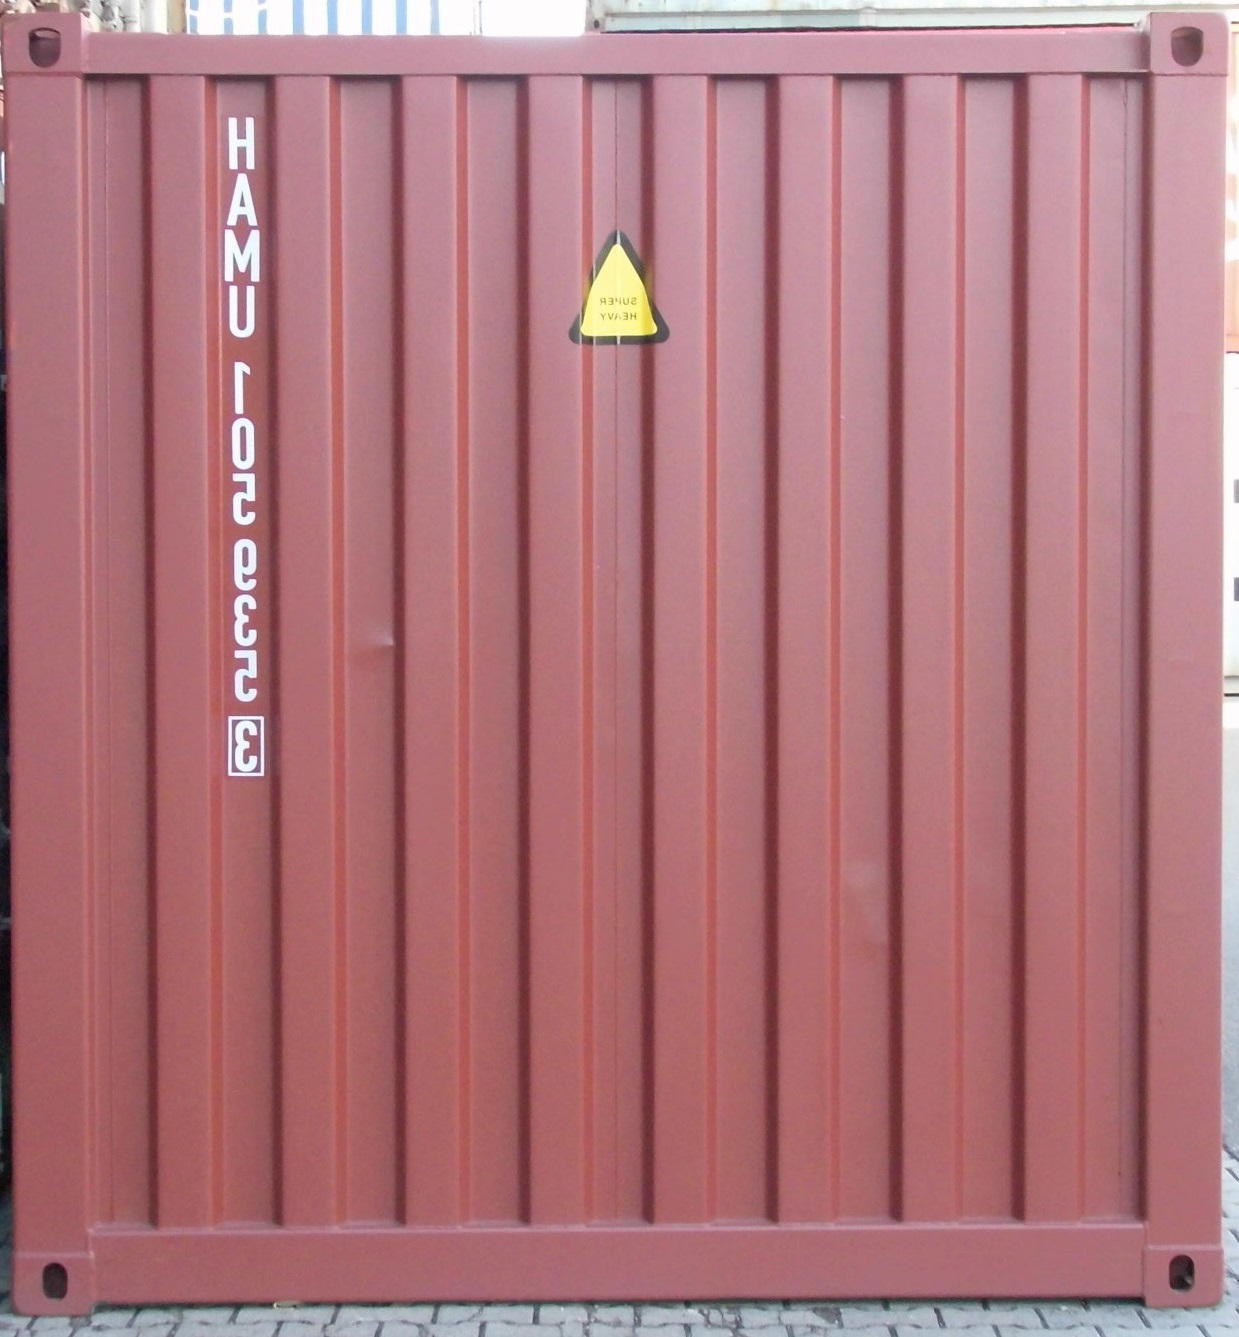container_no_door: (10, 16, 1217, 1300)
